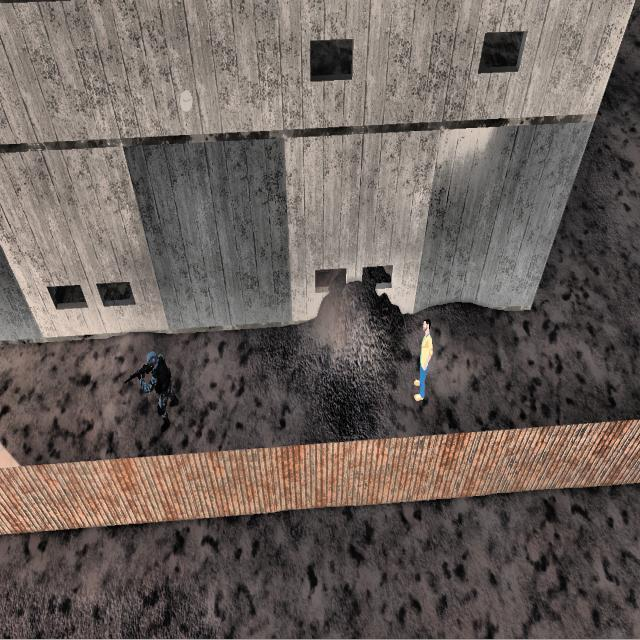bad: (133, 340, 179, 438)
good: (408, 303, 438, 418)
